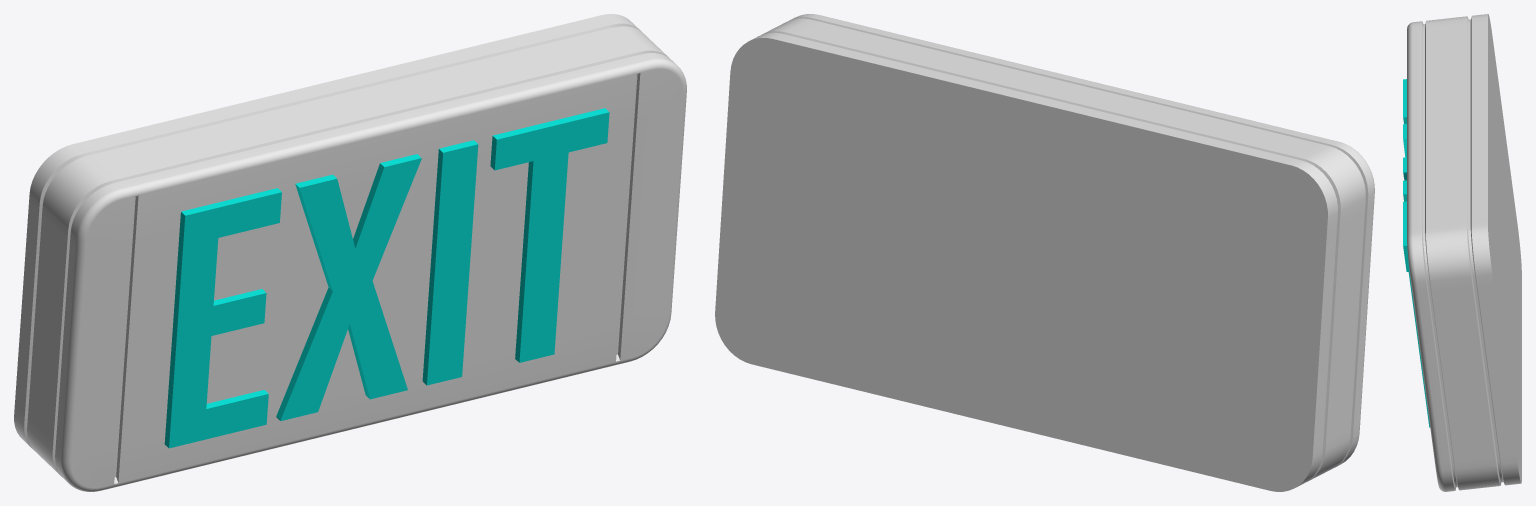
Rendered from asset.glb.
3 views of the same model, side by side, from view 1: azimuth 30°, elevation 25°; view 2: azimuth 150°, elevation 25°; view 3: azimuth 270°, elevation 25° (orthographic). The views are drawn at different scales.
Visible parts, largest first — view 1: Exit Sign Box, Text; view 2: Exit Sign Box; view 3: Exit Sign Box, Text.
Part boxes in pixels (box(x1,y1,x2,y2)): Exit Sign Box: box(14, 14, 686, 491); Text: box(164, 108, 609, 448); Exit Sign Box: box(715, 14, 1374, 491); Exit Sign Box: box(1407, 14, 1521, 491); Text: box(1403, 79, 1430, 427).
Size of the model in its own units: 7.62 by 3.91 by 1.6.
